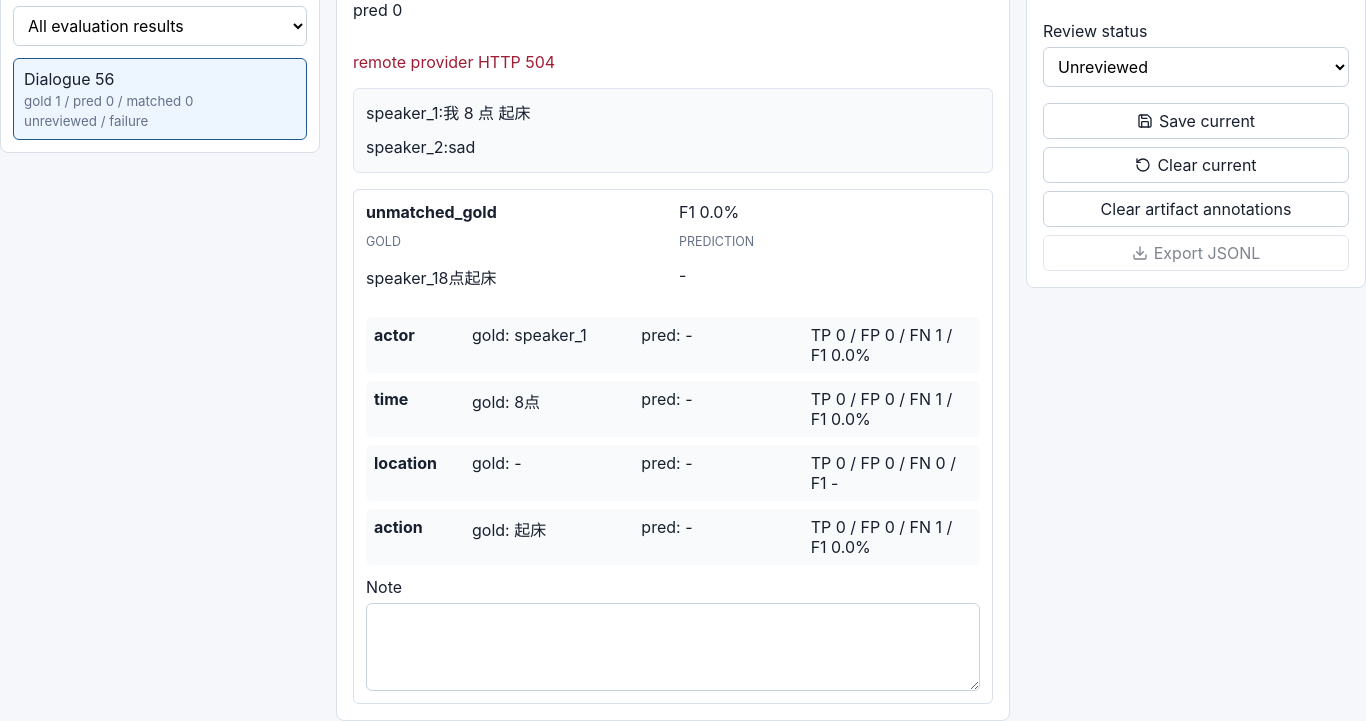
Test case: Workbench › keeps export disabled until an annotation status or note changes
(page scrolled)
Expected: the button "Export JSONL" is disabled, [1043,235,1349,271]
In the text box named "Event 1 note": (673, 647) [366,603,980,691], type "note only"
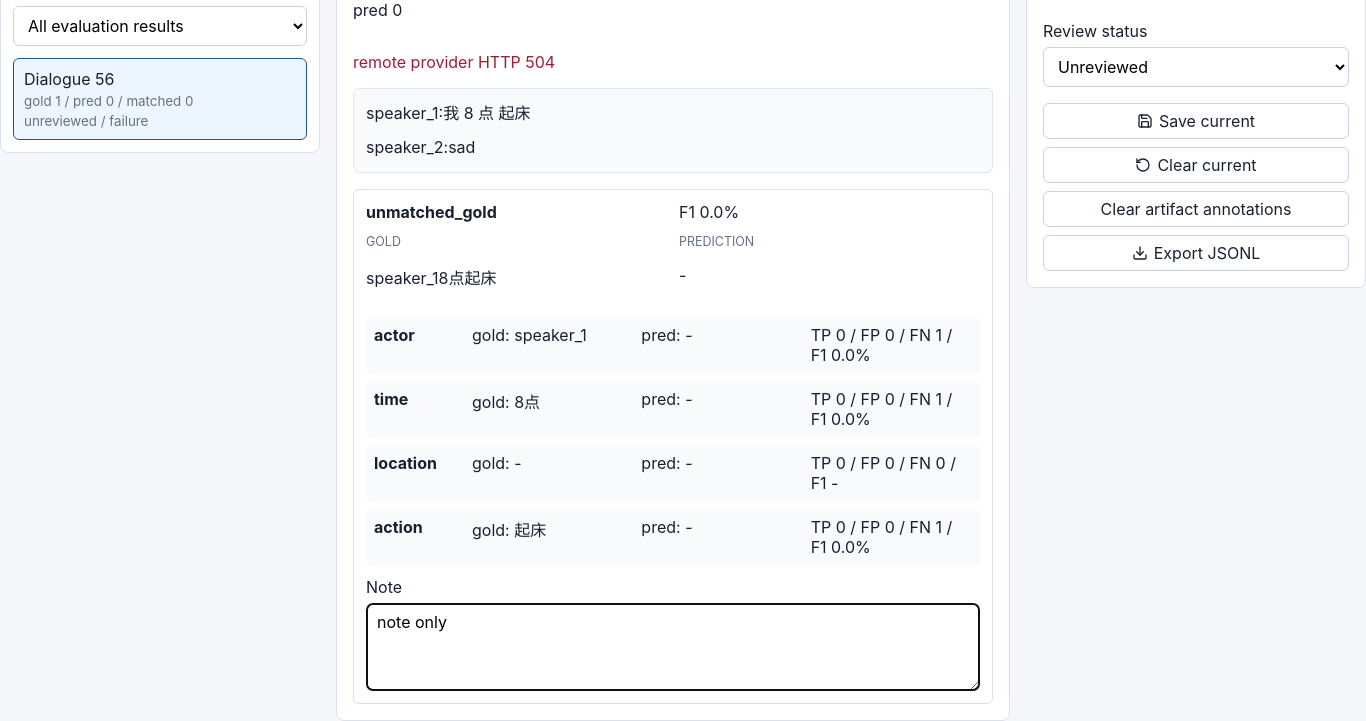
Result: the button "Export JSONL" is enabled at [1043,235,1349,271]
